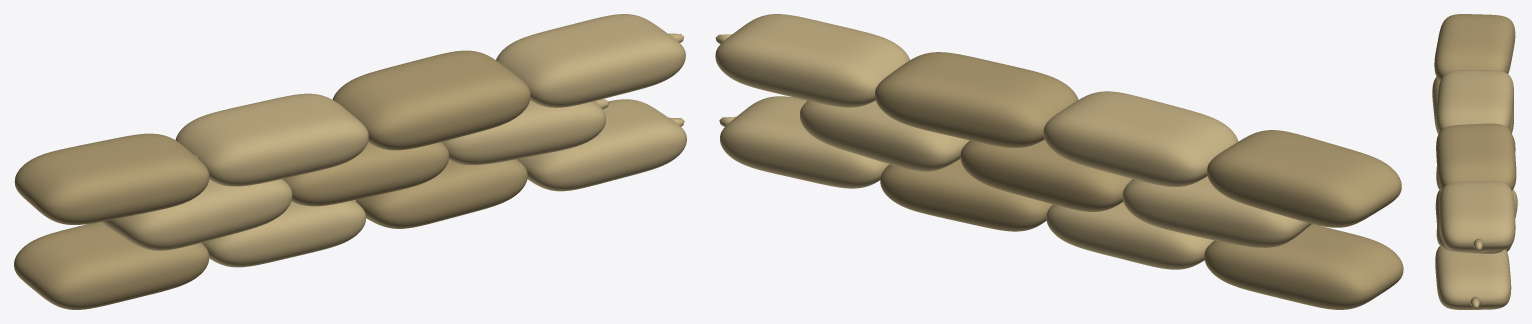
File: Prop_Sandbags.glb
The picture shows the model from 3 angles, left to right: view 1: azimuth 30°, elevation 25°; view 2: azimuth 150°, elevation 25°; view 3: azimuth 270°, elevation 25°; orthographic projection. The views are drawn at different scales.
Visible parts, largest first — view 1: SandbagsA, SandbagsB; view 2: SandbagsA, SandbagsB; view 3: SandbagsA, SandbagsB.
Part boxes in pixels (bbox=[...]): SandbagsA: bbox=[101, 14, 686, 267]; SandbagsB: bbox=[14, 50, 530, 309]; SandbagsA: bbox=[715, 14, 1311, 269]; SandbagsB: bbox=[875, 52, 1403, 309]; SandbagsA: bbox=[1432, 70, 1517, 309]; SandbagsB: bbox=[1434, 14, 1516, 251].
Size of the model in its own units: 2.26 by 0.4377 by 0.3569.
